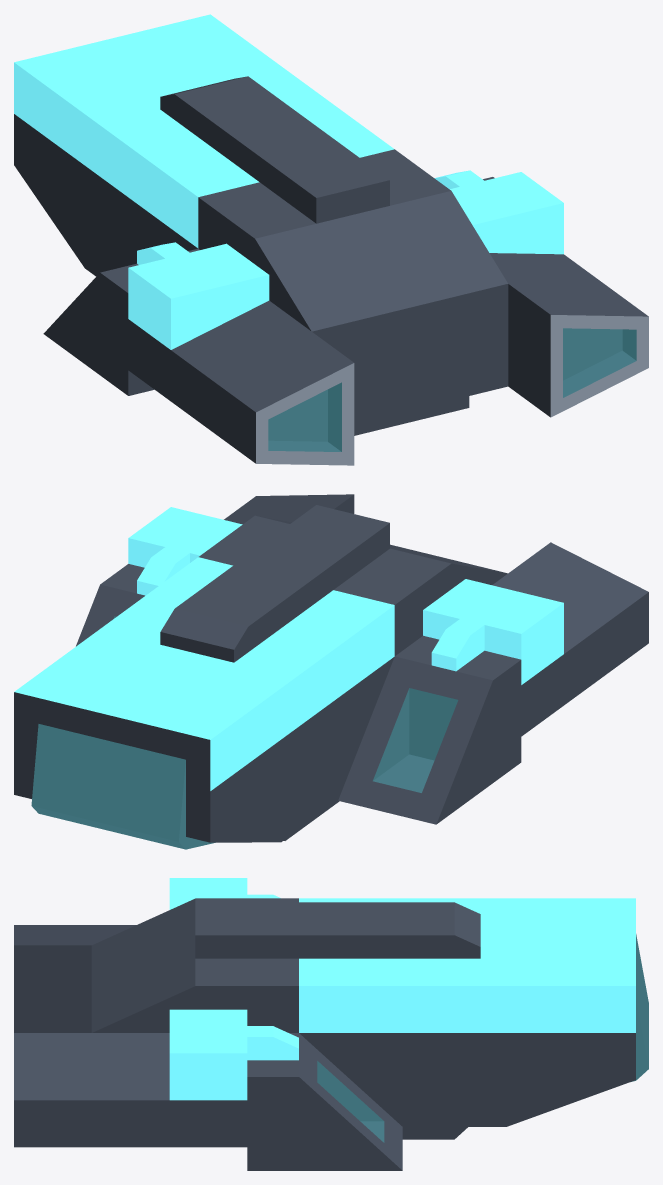
Rendered from craft_cargoA.glb.
The picture shows the model from 3 angles, top to bottom: view 1: azimuth 30°, elevation 25°; view 2: azimuth 150°, elevation 25°; view 3: azimuth 270°, elevation 25°; orthographic projection. The views are drawn at different scales.
Visible parts, largest first — view 1: craft_cargoA; view 2: craft_cargoA; view 3: craft_cargoA.
Boxes of the visible parts, x1,y1,x2,y2 form: craft_cargoA: (14,14,648,465); craft_cargoA: (14,494,648,849); craft_cargoA: (14,878,648,1170).
Size of the model in its own units: 1.6 by 0.8 by 2.45.
